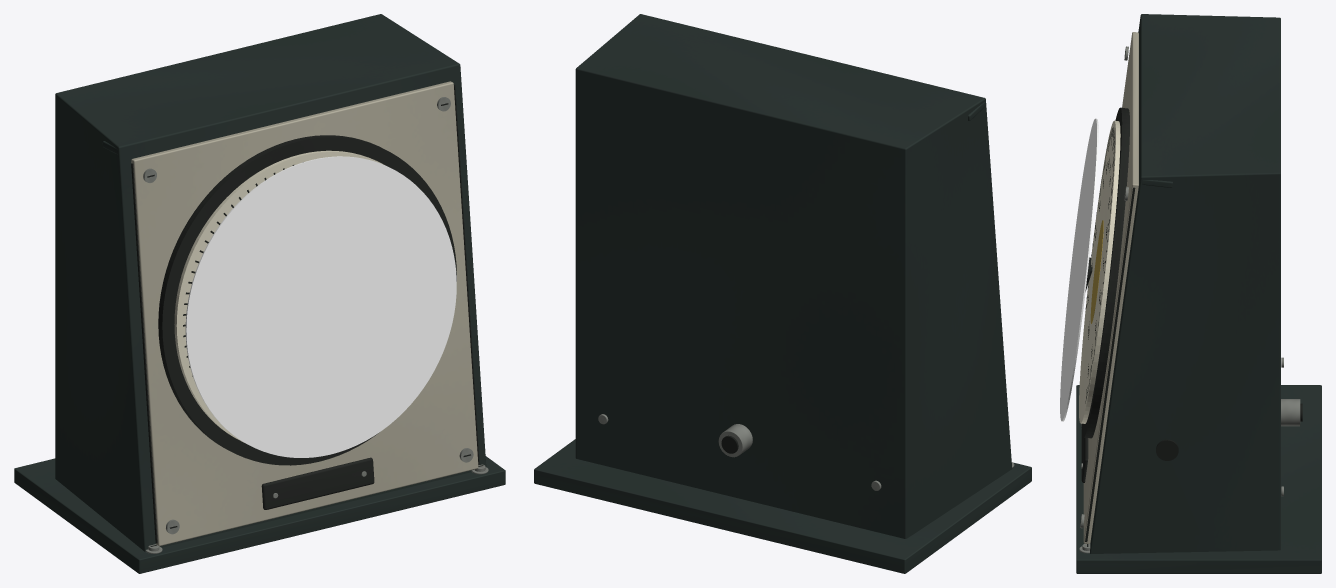
File: Speedometer_final.fbx
3 renders of one model, left to right at view 1: azimuth 30°, elevation 25°; view 2: azimuth 150°, elevation 25°; view 3: azimuth 270°, elevation 25°, orthographic. The views are drawn at different scales.
Visible parts, largest first — view 1: Fixed_Tapered_Rear_Housing, Fixed_Protective_Glass, Fixed_Front_Metal_Panel, Fixed_Foot, Dial_Dark_Bezel, Dial_Face, Fixed_Nameplate, Front_Service_Gasket, Front_Service_Gasket.001; view 2: Fixed_Tapered_Rear_Housing, Fixed_Foot, Rear_Cable_Gland; view 3: Fixed_Tapered_Rear_Housing, Fixed_Foot, Fixed_Front_Metal_Panel, Dial_Face, Fixed_Protective_Glass, Dial_Dark_Bezel, Front_Service_Gasket.001, Fixed_Dial_Printing, Rear_Cable_Gland, Dial_Yellow_Center, Side_Service_Plug.
Boxes of the visible parts, x1,y1,x2,y2 form: Fixed_Tapered_Rear_Housing: (55,14,486,551); Fixed_Protective_Glass: (185,156,456,457); Fixed_Front_Metal_Panel: (131,81,478,546); Fixed_Foot: (14,456,505,573); Dial_Dark_Bezel: (158,135,456,465); Dial_Face: (174,150,383,442); Fixed_Nameplate: (261,457,374,509); Front_Service_Gasket: (131,163,157,543); Front_Service_Gasket.001: (454,84,479,464); Fixed_Tapered_Rear_Housing: (575,14,1012,538); Fixed_Foot: (534,439,1031,573); Rear_Cable_Gland: (718,424,752,457); Fixed_Tapered_Rear_Housing: (1090,14,1280,553); Fixed_Foot: (1076,385,1321,573); Fixed_Front_Metal_Panel: (1083,32,1138,543); Dial_Face: (1079,120,1120,423); Fixed_Protective_Glass: (1060,118,1098,421); Dial_Dark_Bezel: (1081,107,1129,438); Front_Service_Gasket.001: (1085,187,1135,541); Fixed_Dial_Printing: (1080,51,1125,522); Rear_Cable_Gland: (1281,399,1300,426); Dial_Yellow_Center: (1090,220,1103,323); Side_Service_Plug: (1156,439,1178,460).
Size of the model in its own units: 18.24 by 19 by 11.52.
8 materials, 5 textured.
